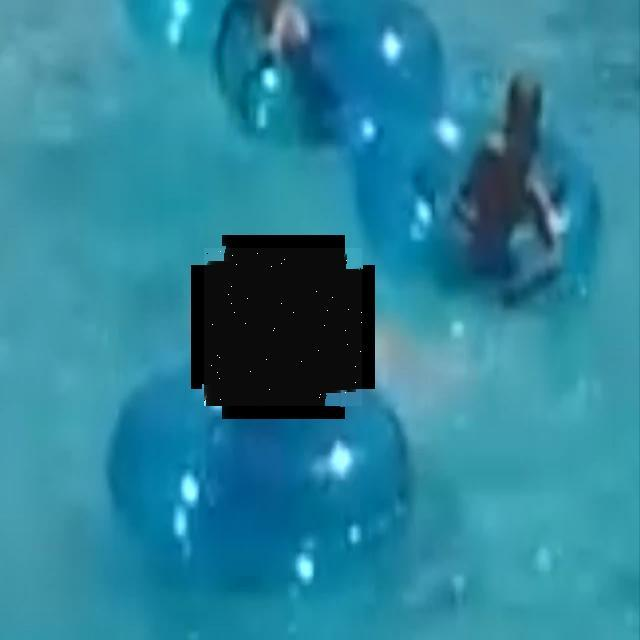Out of Water: (204, 248, 362, 406)
